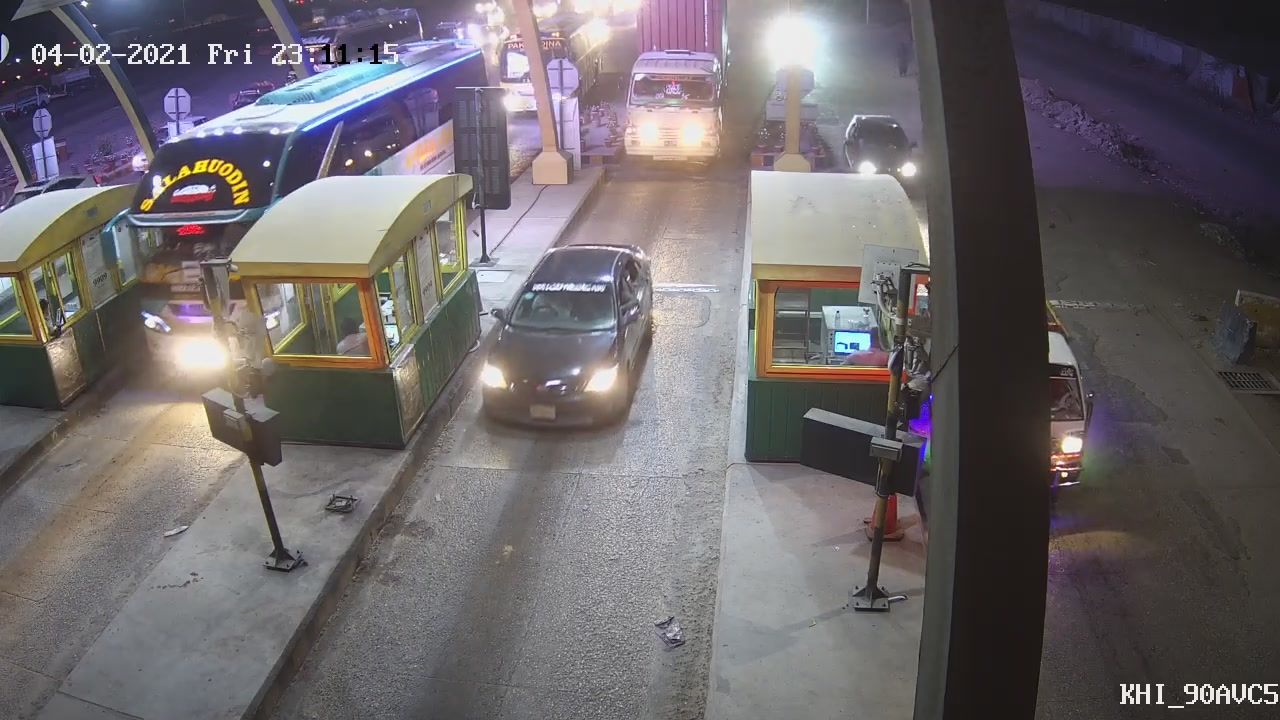F1: (470, 236, 661, 430)
F6: (615, 1, 745, 170)
